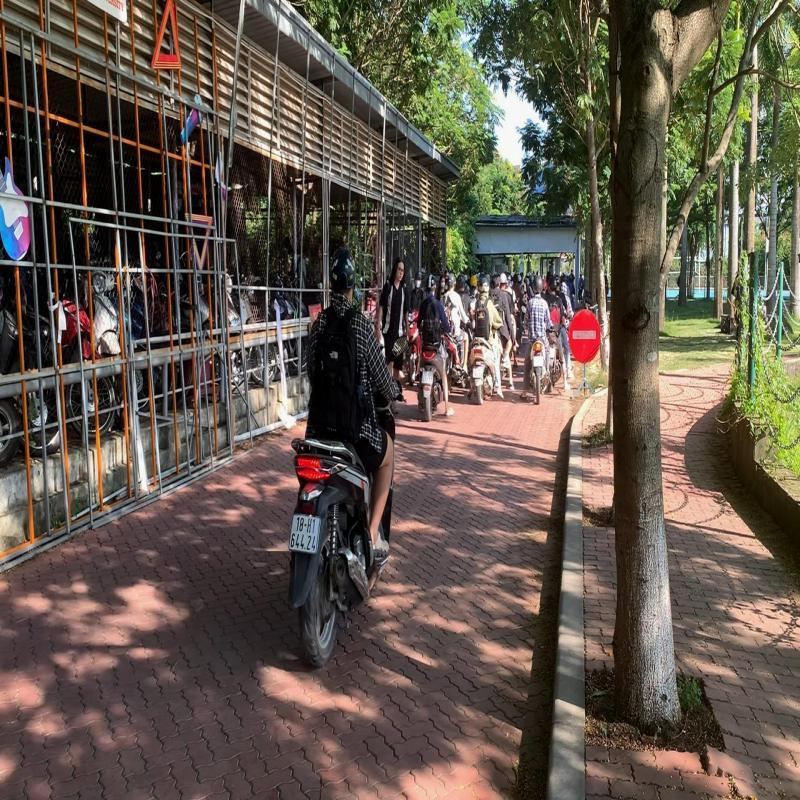helmet: (330, 245, 356, 299), (426, 274, 437, 296), (533, 276, 544, 296), (478, 276, 489, 294)
licenseplate: (288, 512, 320, 554), (422, 372, 433, 384), (473, 366, 484, 378), (534, 355, 544, 367)
motorcyclist: (288, 246, 399, 662), (417, 274, 455, 422), (468, 278, 505, 404), (522, 276, 552, 406)
